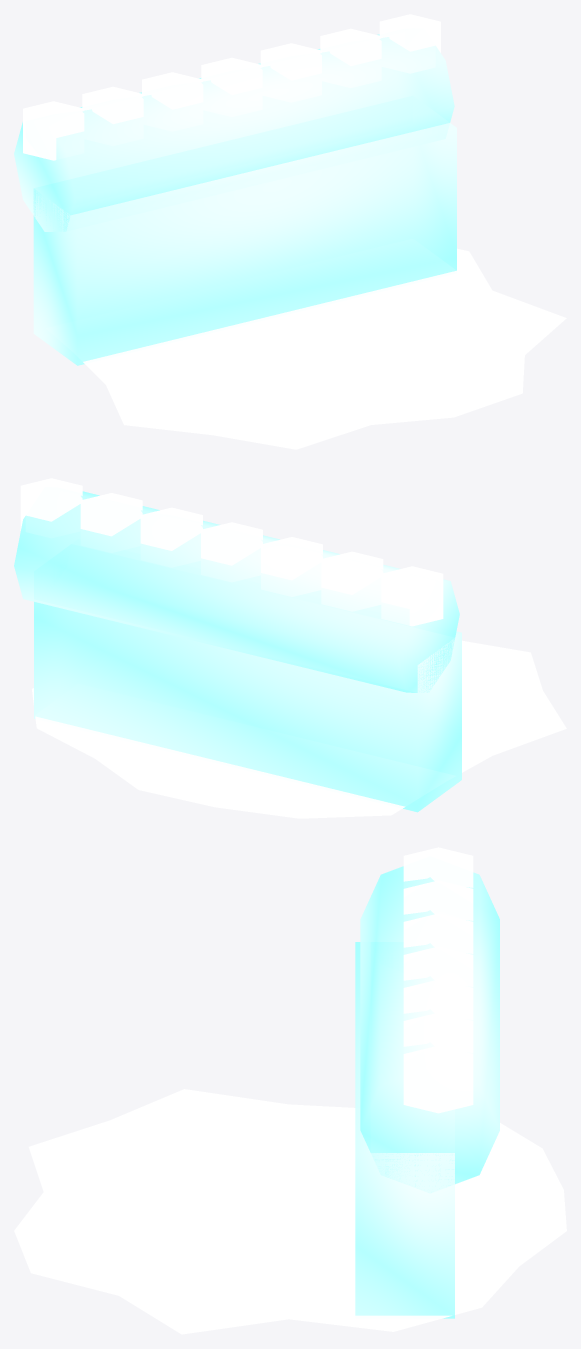
File: xy_water_wave.glb
The picture shows the model from 3 angles, top to bottom: view 1: azimuth 30°, elevation 25°; view 2: azimuth 150°, elevation 25°; view 3: azimuth 270°, elevation 25°; orthographic projection. The views are drawn at different scales.
Parts seen in each view (by area): view 1: Wave; view 2: Wave; view 3: Wave.
Boxes of the visible parts, x1,y1,x2,y2 form: Wave: (14,14,566,449); Wave: (14,478,566,818); Wave: (14,847,566,1334).
Size of the model in its own units: 3.49 by 1.77 by 3.32.
